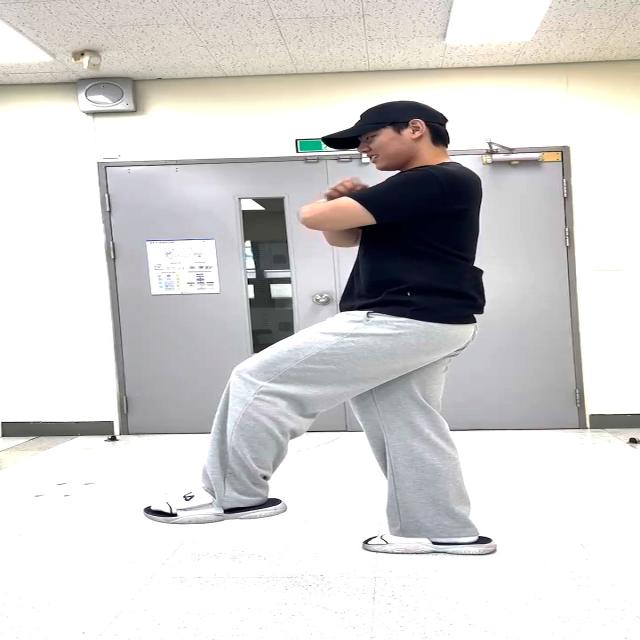leg: (158, 313, 376, 517)
